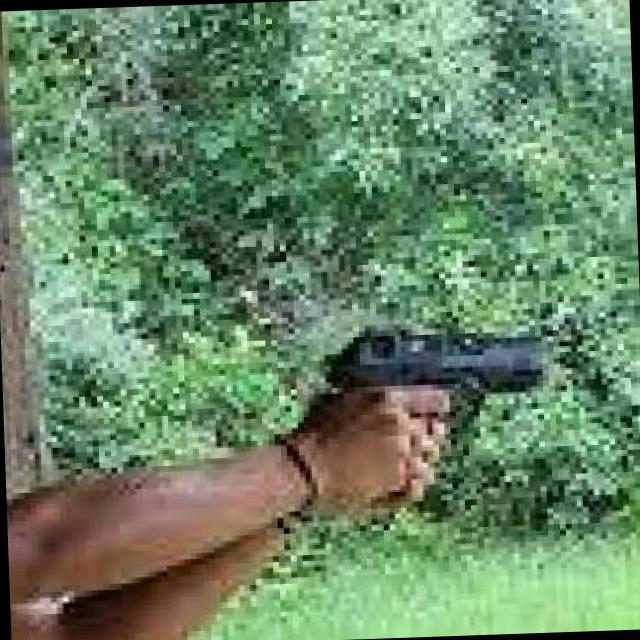Guns: (300, 281, 571, 544)
